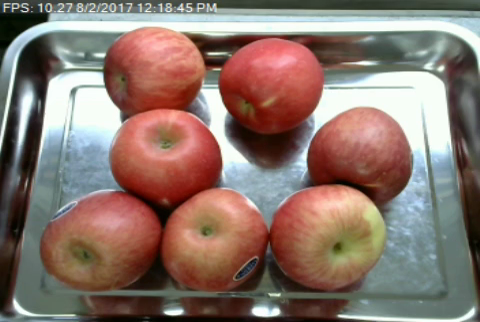Apple: (37, 188, 162, 294), (102, 106, 231, 207), (271, 183, 386, 296), (158, 185, 270, 293), (215, 32, 328, 138), (307, 107, 415, 203), (99, 25, 210, 118)
